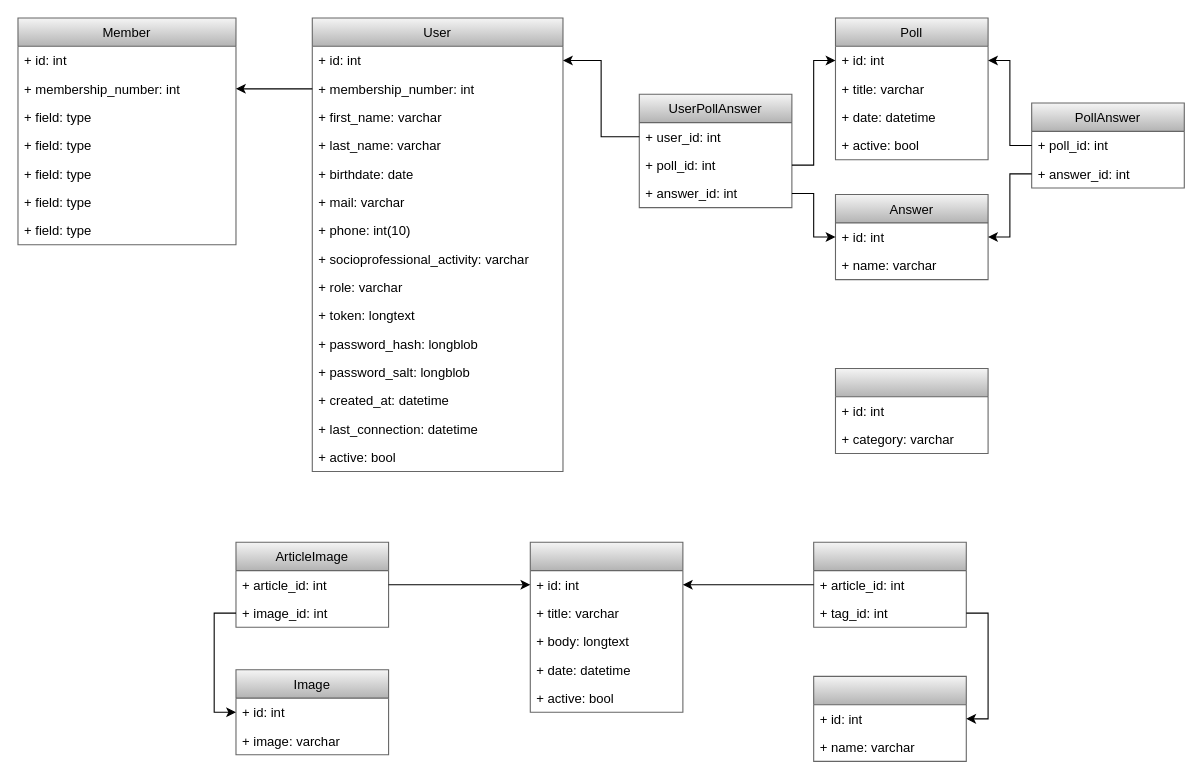
The diagram is 1202 pixels wide and 779 high, and some of its shapes have lost their labels. The shapes that lost their labels are listed below. From the top down, each one's box as (x1, y1, x2, y2) in pixels, then its label:
(834, 367, 988, 453): Contact
(813, 541, 966, 627): ArticleTag
(529, 541, 683, 712): Article
(813, 675, 966, 761): Tag
